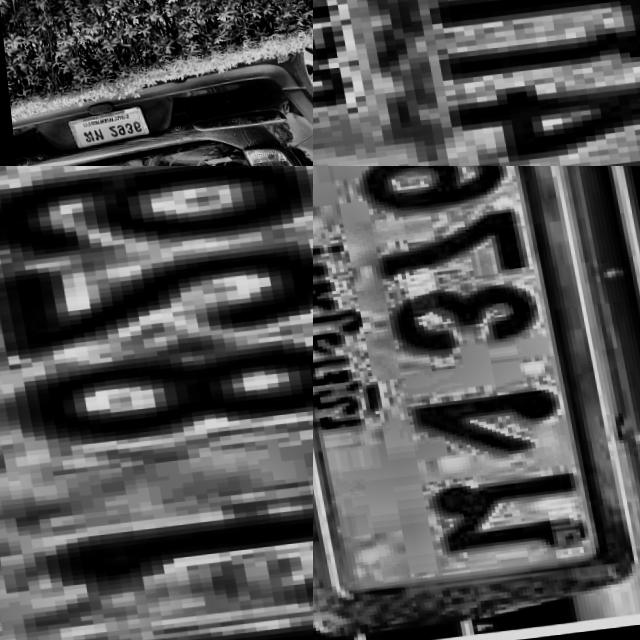license-plate: (313, 166, 640, 640), (0, 166, 313, 640), (313, 0, 640, 166), (235, 65, 275, 100)
